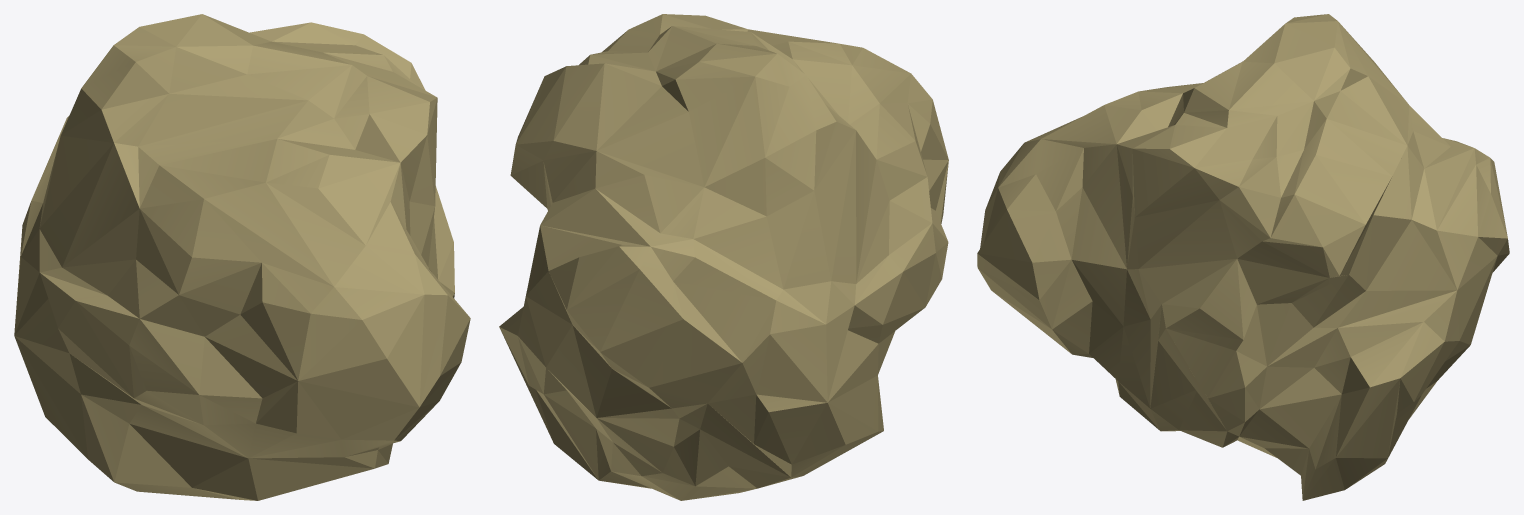
The model's file is SM_rock_06.fbx.
3 renders of one model, left to right at view 1: azimuth 30°, elevation 25°; view 2: azimuth 150°, elevation 25°; view 3: azimuth 270°, elevation 25°, orthographic. The views are drawn at different scales.
Parts seen in each view (by area): view 1: rock_06; view 2: rock_06; view 3: rock_06.
Boxes of the visible parts, bbox=[...] form: rock_06: bbox=[14, 14, 470, 500]; rock_06: bbox=[499, 14, 948, 500]; rock_06: bbox=[977, 14, 1509, 500].
Size of the model in its own units: 358 by 438 by 513.
